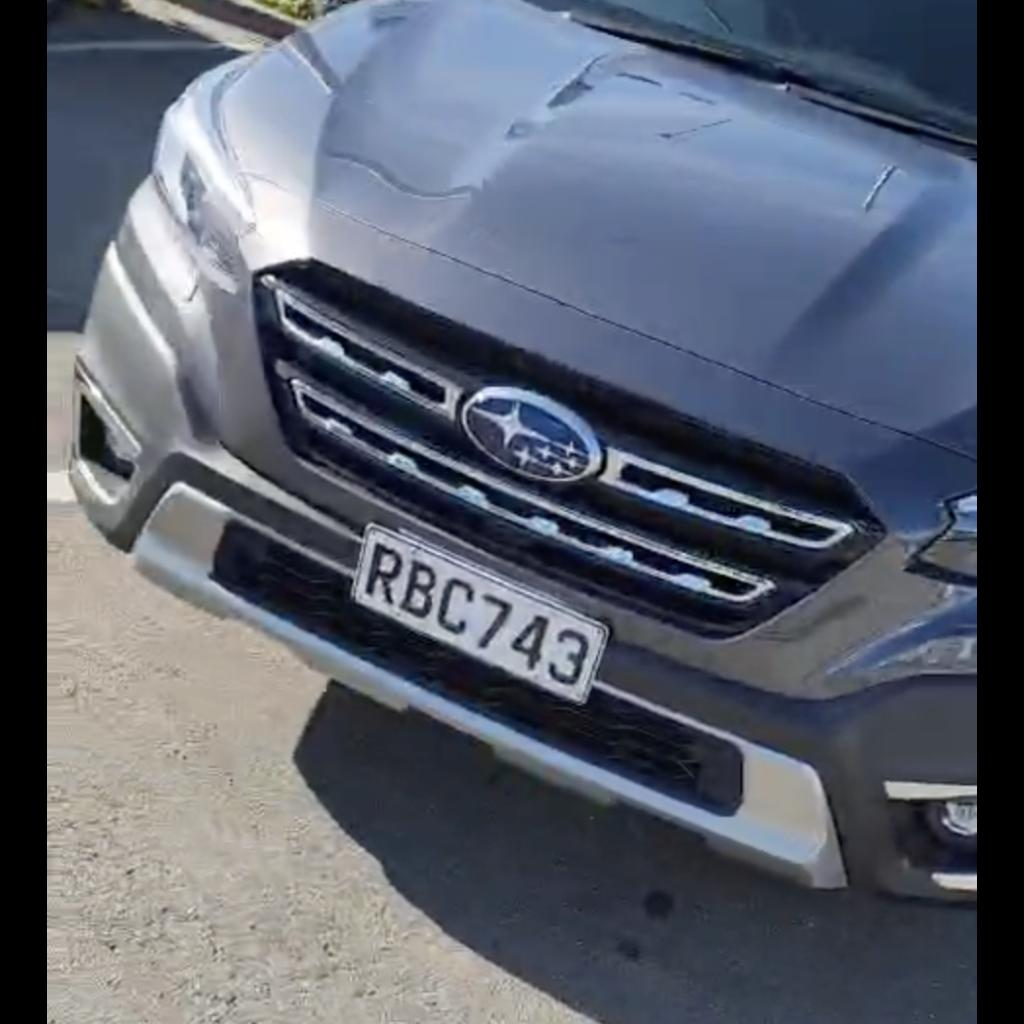Number-Plates: (333, 516, 621, 727)
